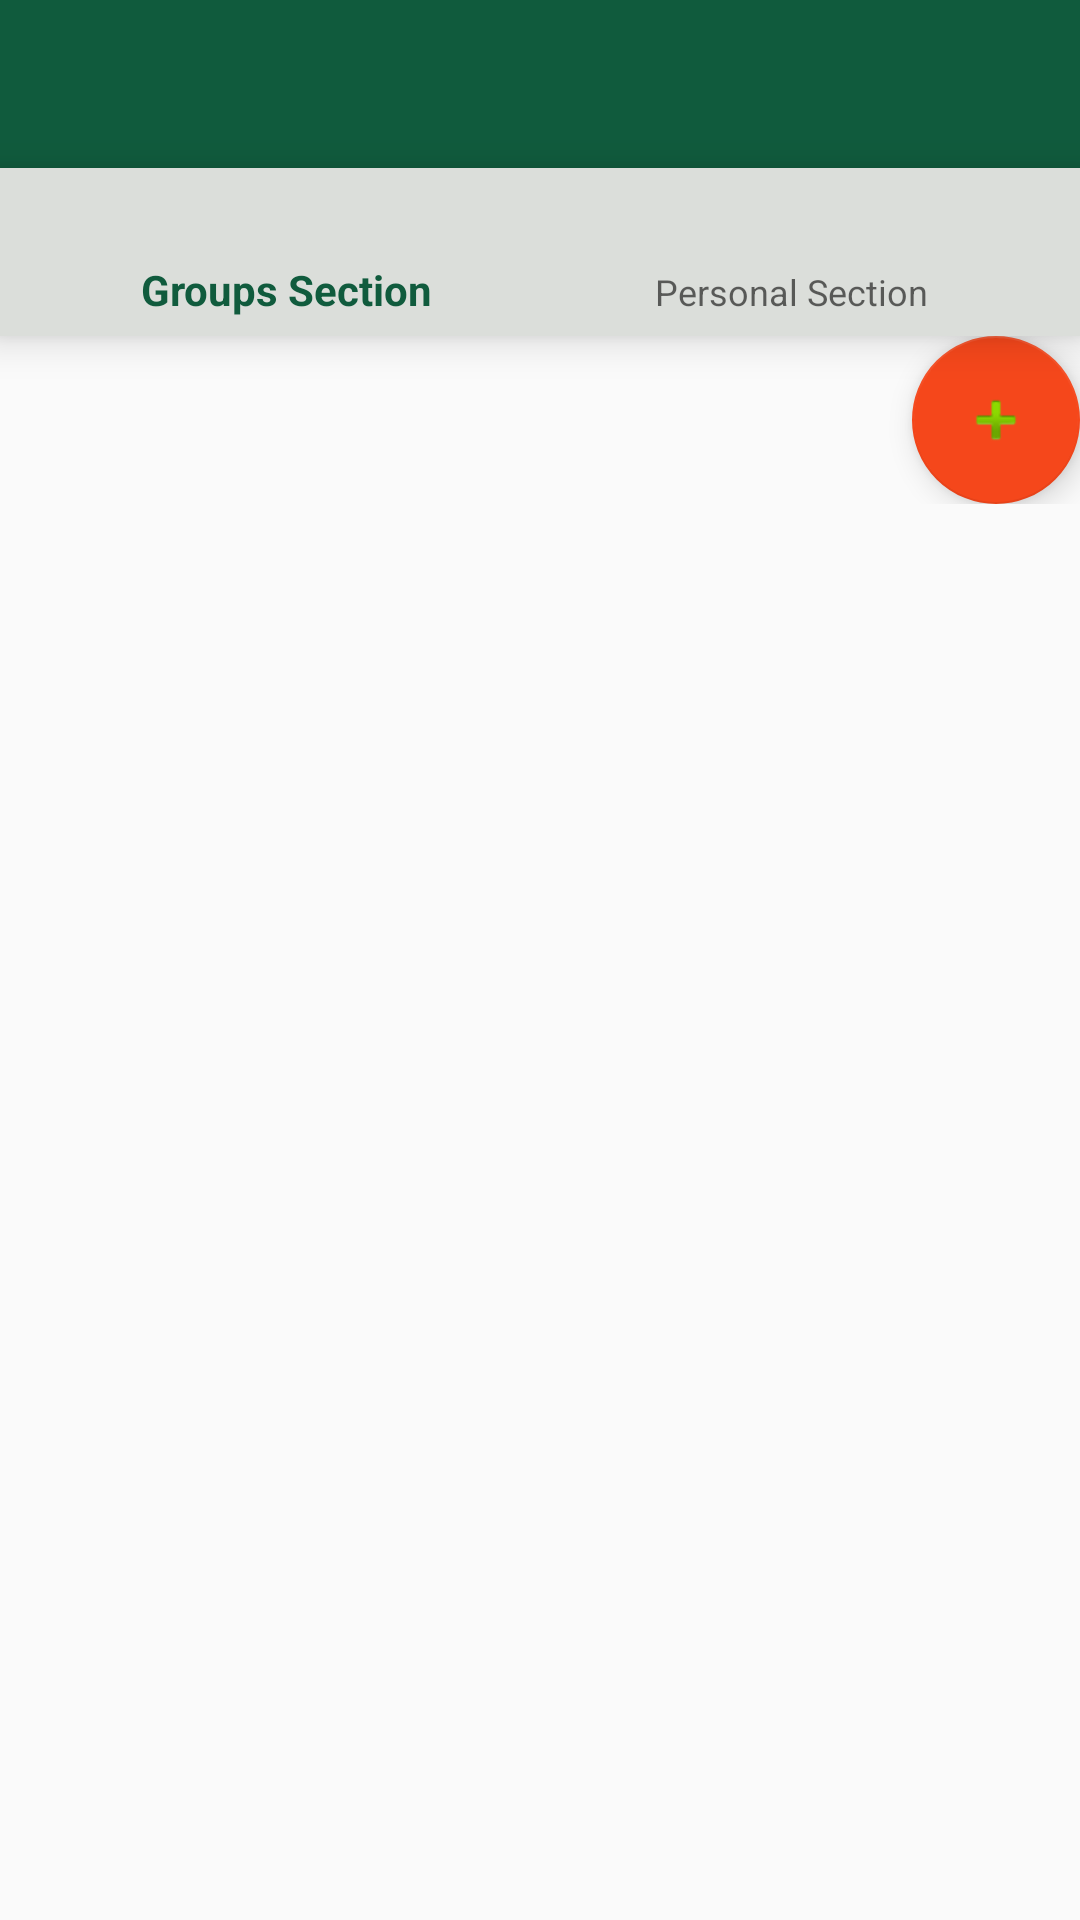

Icon click points for this 1080x1920 phone screenshot, format (x,y):
add: (996,420)
